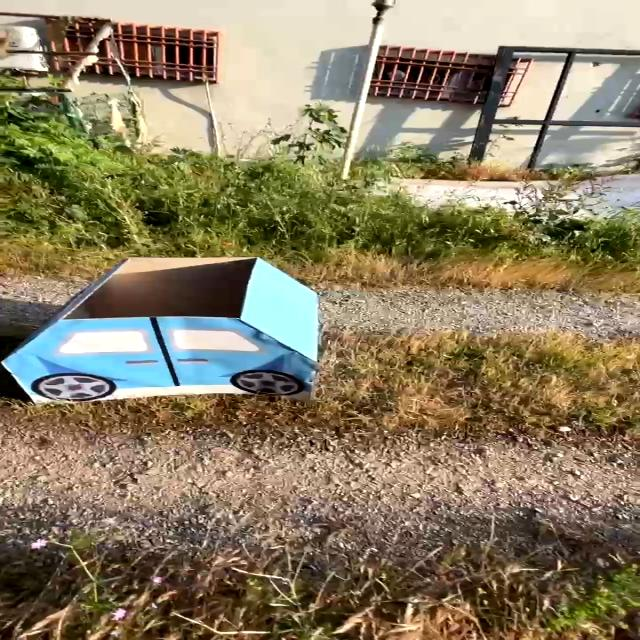blue_car: (0, 219, 370, 443)
